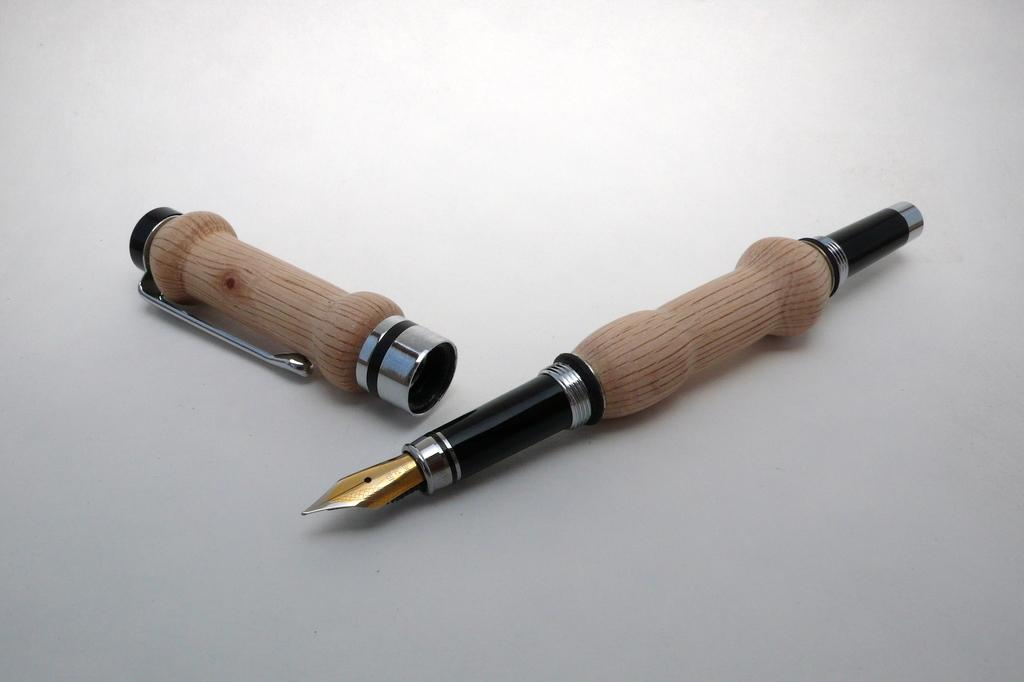pen: (299, 196, 929, 519)
